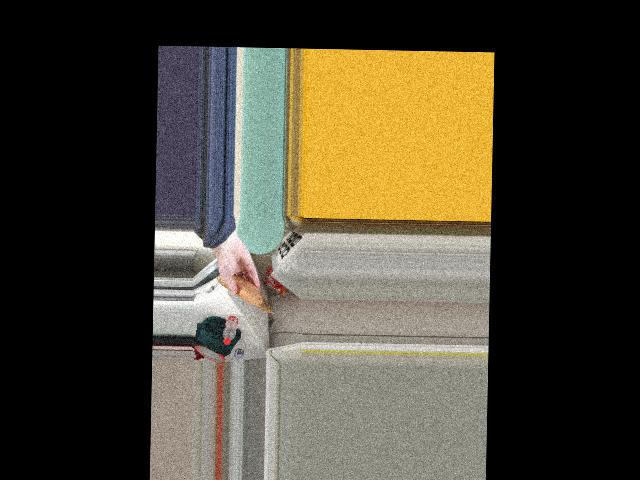sweet_potato: (226, 275, 259, 306)
